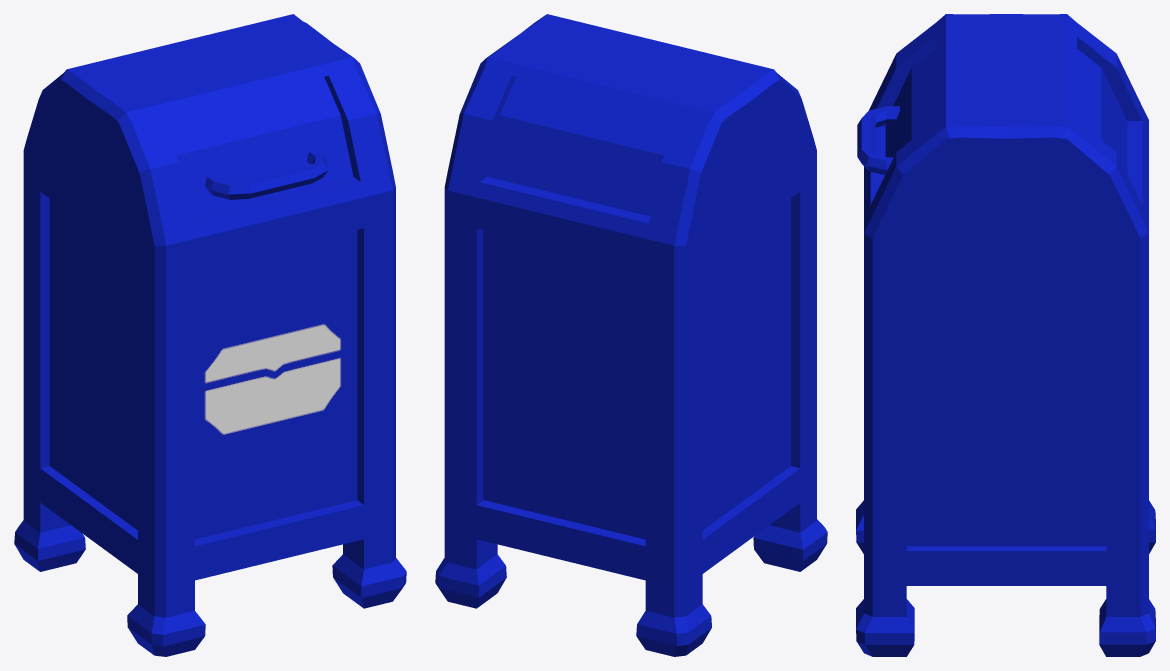
Rendered from mailbox.fbx.
3 renders of one model, left to right at view 1: azimuth 30°, elevation 25°; view 2: azimuth 150°, elevation 25°; view 3: azimuth 270°, elevation 25°, orthographic. The views are drawn at different scales.
Parts seen in each view (by area): view 1: pCube2; view 2: pCube2; view 3: pCube2.
Boxes of the visible parts, x1,y1,x2,y2 form: pCube2: [14, 14, 406, 656]; pCube2: [435, 14, 827, 656]; pCube2: [856, 14, 1155, 656].
Size of the model in its own units: 69.97 by 135 by 69.73.
